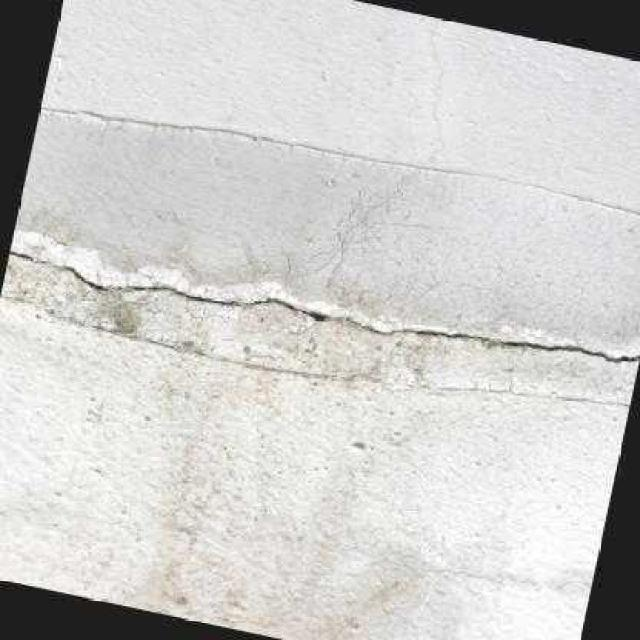D00: (9, 250, 639, 363)
